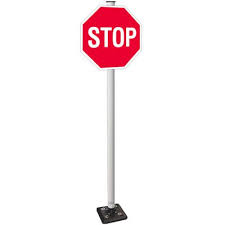stop sign: (81, 5, 140, 69)
